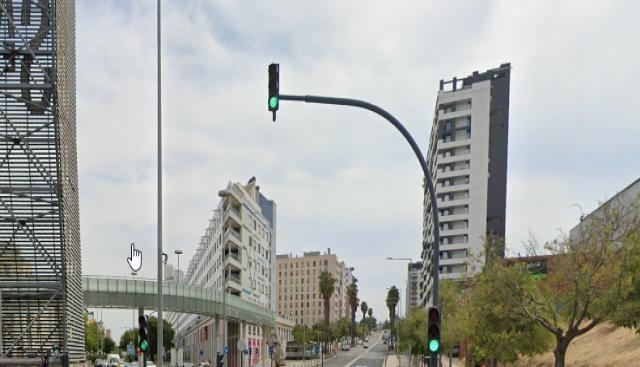green_light: (428, 306, 441, 353), (268, 63, 279, 112), (138, 315, 149, 352)
